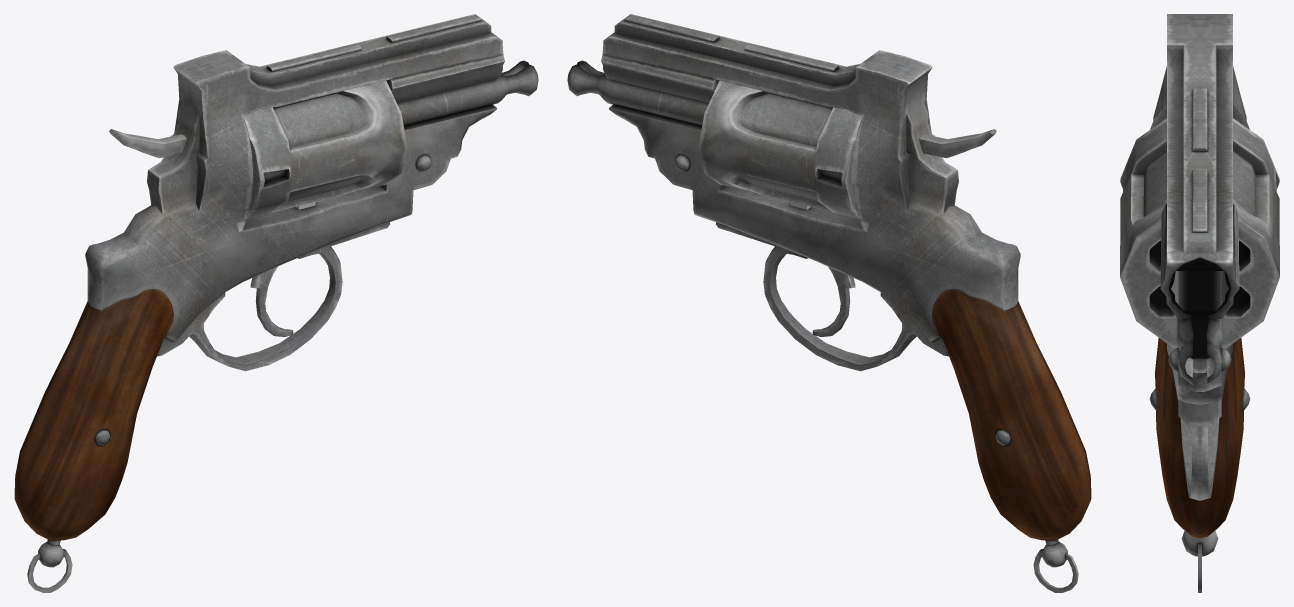
Rendered from revolver.glb.
3 renders of one model, left to right at view 1: azimuth 30°, elevation 25°; view 2: azimuth 150°, elevation 25°; view 3: azimuth 270°, elevation 25°, orthographic. The views are drawn at different scales.
Parts seen in each view (by area): view 1: Revolver; view 2: Revolver; view 3: Revolver.
Boxes of the visible parts, x1,y1,x2,y2 form: Revolver: [14, 14, 538, 592]; Revolver: [567, 14, 1091, 592]; Revolver: [1120, 14, 1279, 592].
Bounding box in the file's own units: 3.26 × 2.94 × 0.6341.
1 material, 1 textured.
